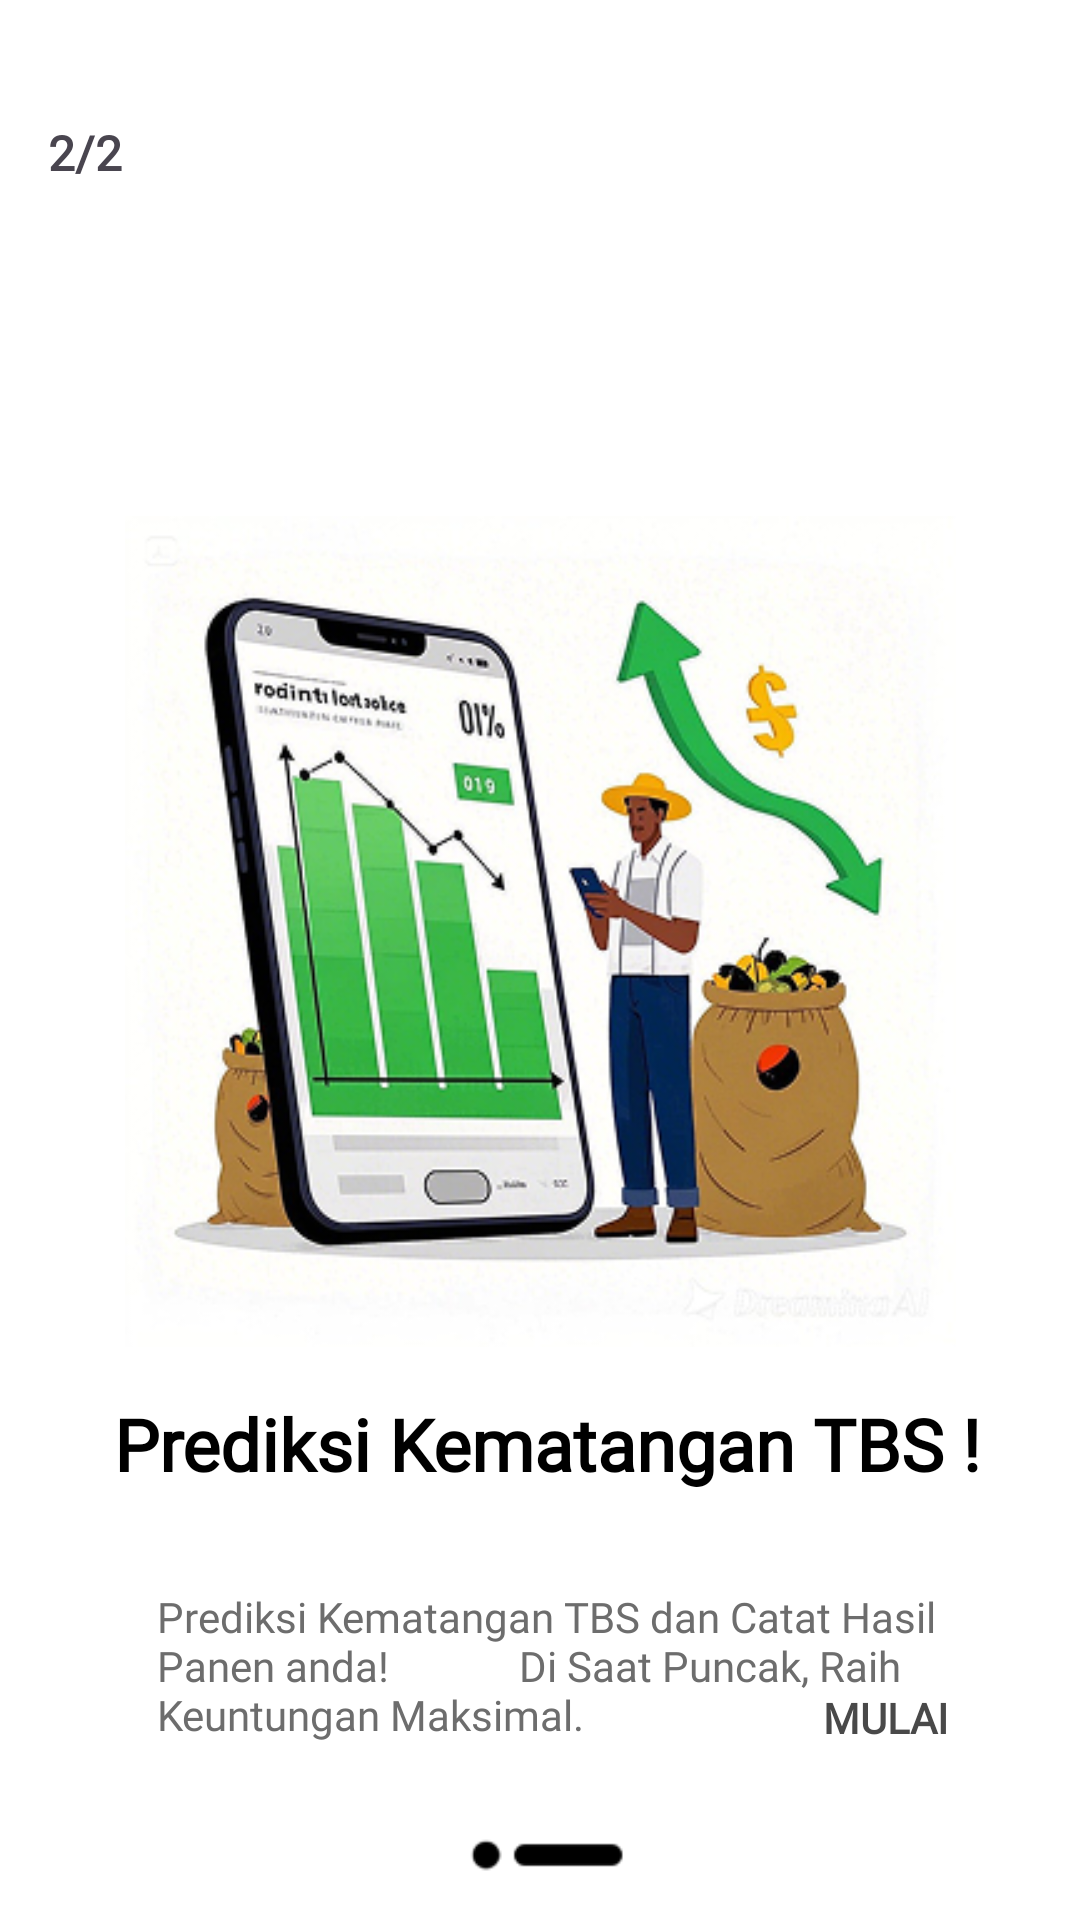

Icons on this 1080w x 1920h Android screen, each with the point to tap as (x=x, y=y):
bar dot: (x=547, y=1855)
